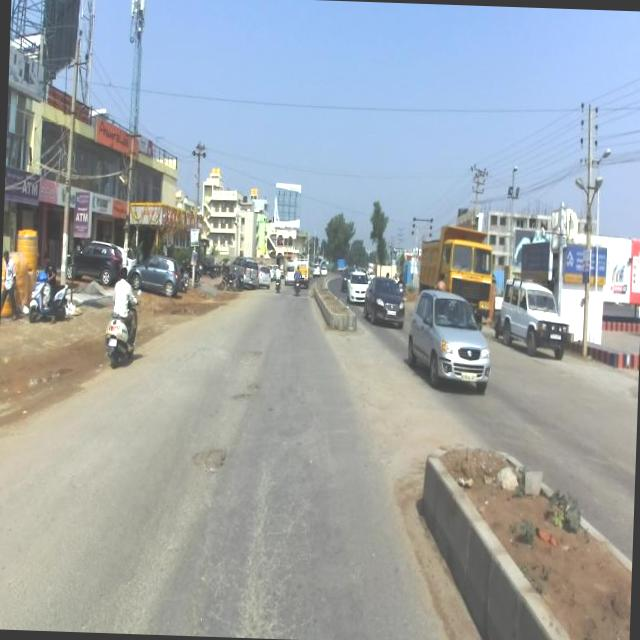pothole: (180, 416, 237, 508), (223, 346, 275, 416)
